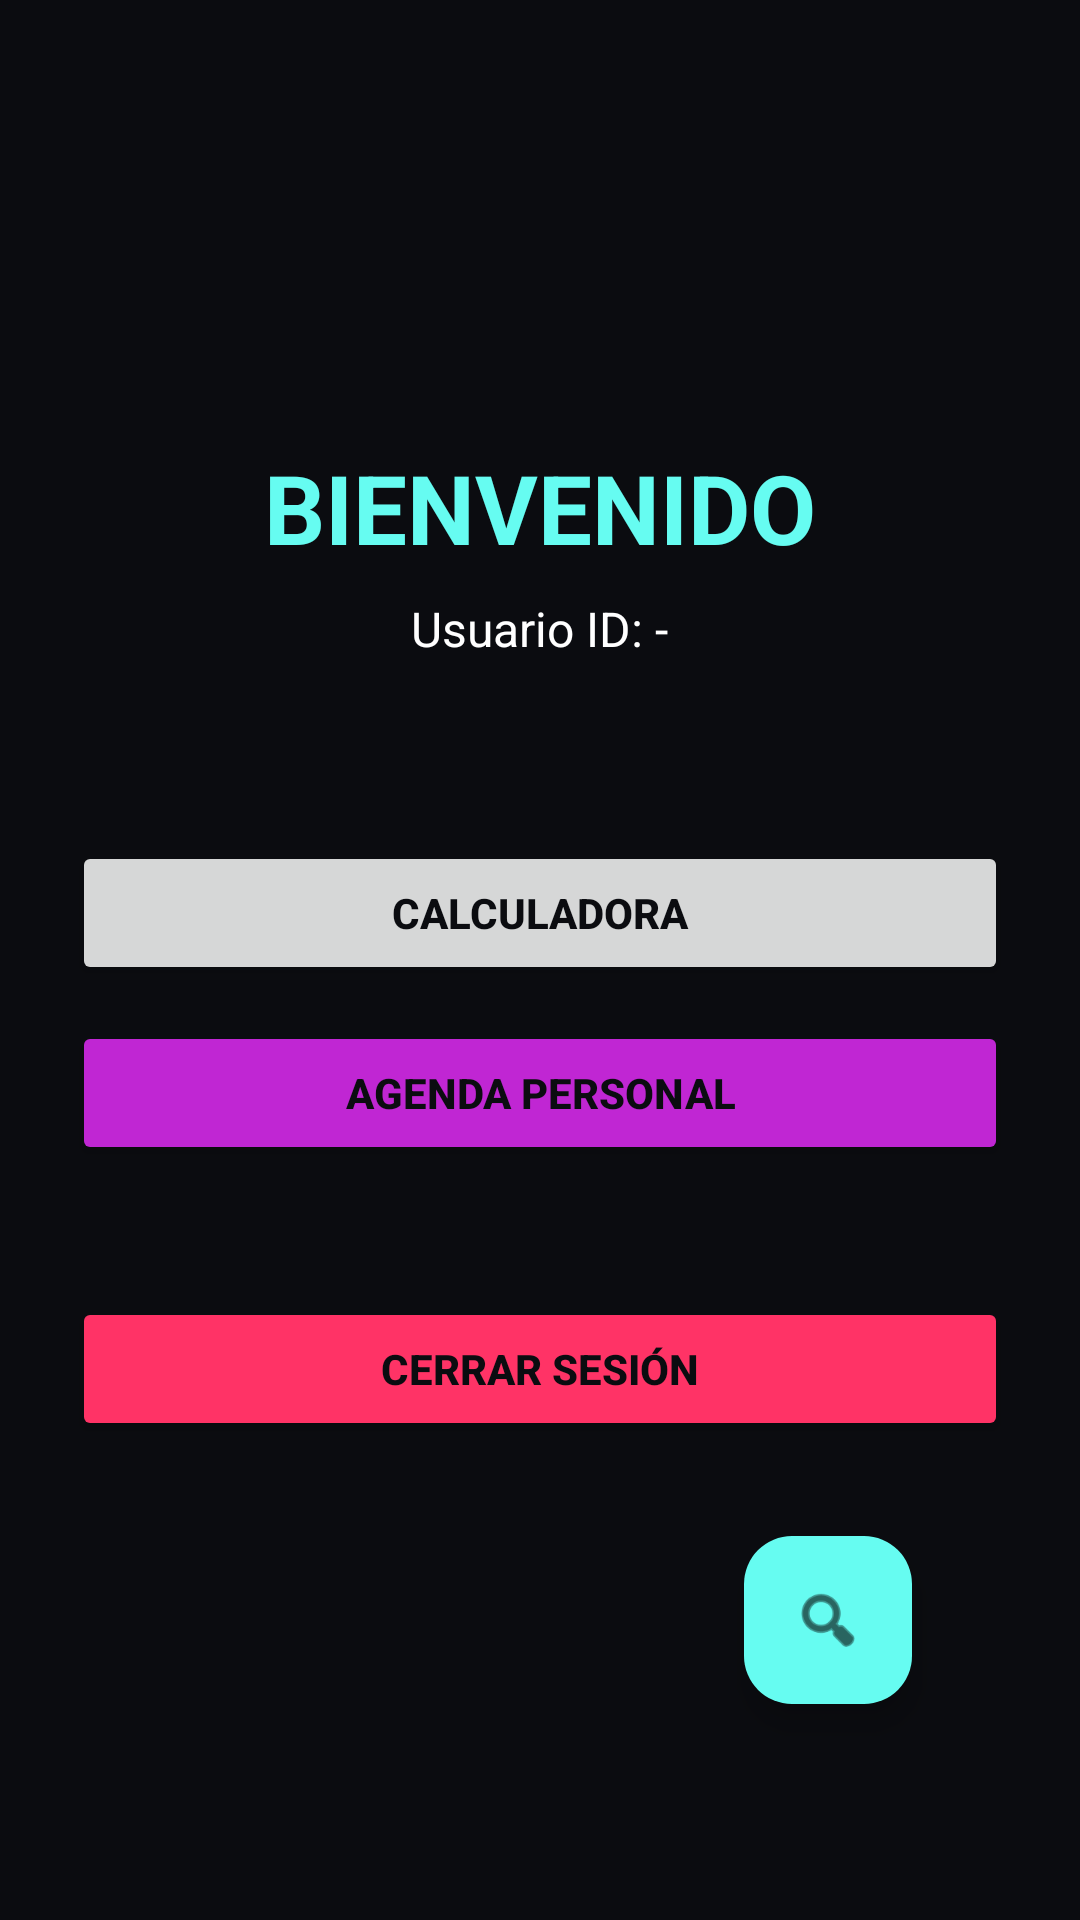

Icons on this 1080px x 1920px Android screen, each with the point to tap as (x,y):
Buscar Usuario: (828,1620)
